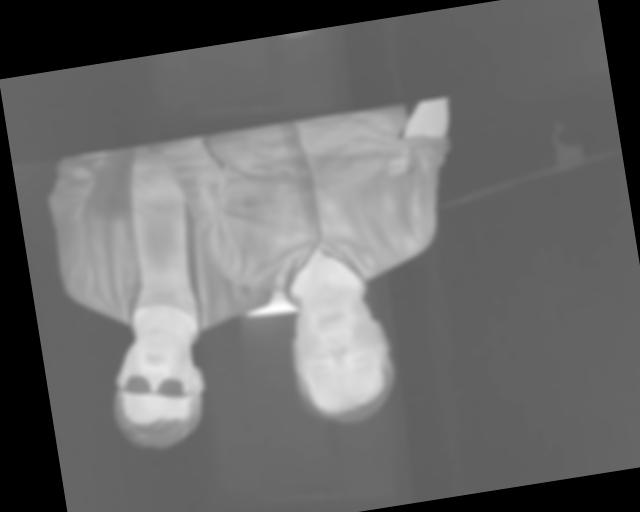face: (280, 277, 403, 432), (103, 324, 214, 456)
